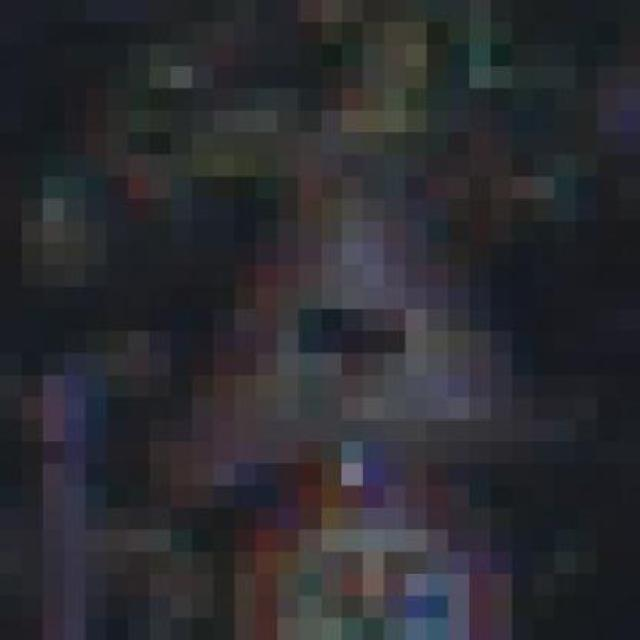Slippery Road Ahead: (149, 110, 534, 485)
